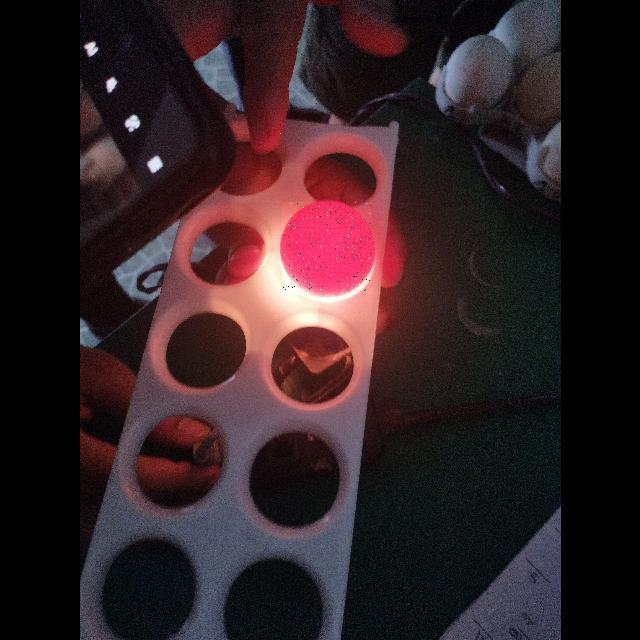Infertile: (282, 202, 372, 294)
